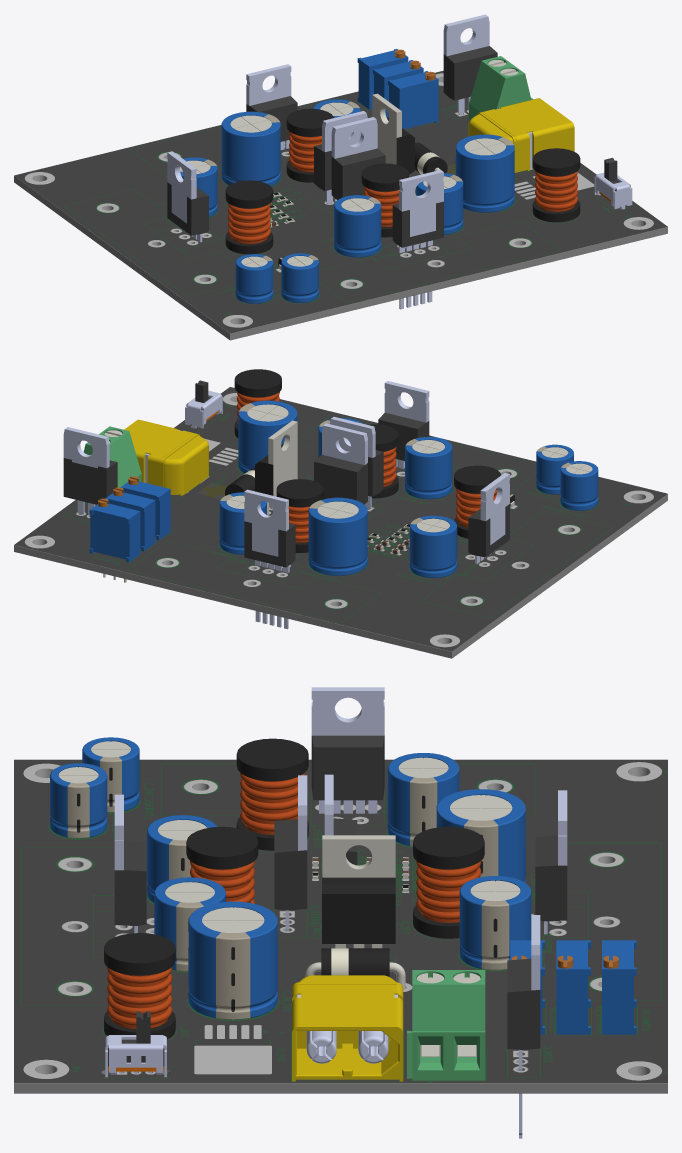
The model's file is robodev-power.glb.
3 views of the same model, one above another, from view 1: azimuth 30°, elevation 25°; view 2: azimuth 150°, elevation 25°; view 3: azimuth 270°, elevation 25° (orthographic). The views are drawn at different scales.
Visible parts, largest first — view 1: =>[0:1:1:22], =>[0:1:1:23], NAUO1, C_IN_5V1, C_OUT_VMOT1, U_VSTEP1, D_MOT1, L_5V1, L_VSERVO1, D_STEP1, =>[0:1:1:20], =>[0:1:1:21] (+18 smaller); view 2: =>[0:1:1:22], =>[0:1:1:23], NAUO1, C_OUT_VMOT1, U_VMOT1, =>[0:1:1:21], D_MOT1, D_SERVO1, =>[0:1:1:20], C_IN_VSERVO1, C_IN_VSTEP1, C_IN_5V1 (+17 smaller); view 3: =>[0:1:1:22], =>[0:1:1:23], NAUO1, C_IN_5V1, =>[0:1:1:20], J_BENCH1, U_VSERVO1, Q_REVPROT1, =>[0:1:1:21], L_5V1, L_VMOT1, C_IN_VMOT1 (+18 smaller).
Part boxes in pixels (x1,y1,x2,y2): =>[0:1:1:22]: (14, 70, 667, 340); =>[0:1:1:23]: (14, 71, 667, 340); NAUO1: (468, 98, 574, 172); C_IN_5V1: (455, 134, 514, 212); C_OUT_VMOT1: (221, 111, 280, 186); U_VSTEP1: (392, 170, 443, 309); D_MOT1: (443, 14, 497, 114); L_5V1: (532, 148, 580, 222); L_VSERVO1: (225, 180, 273, 254); D_STEP1: (331, 117, 385, 199); =>[0:1:1:20]: (25, 73, 653, 327); =>[0:1:1:21]: (27, 72, 632, 315); =>[0:1:1:22]: (14, 387, 667, 658); =>[0:1:1:23]: (14, 387, 667, 658); NAUO1: (124, 419, 208, 495); C_OUT_VMOT1: (308, 497, 367, 575); U_VMOT1: (244, 489, 295, 629); =>[0:1:1:21]: (28, 405, 632, 648); D_MOT1: (63, 427, 117, 517); D_SERVO1: (314, 423, 367, 504); =>[0:1:1:20]: (25, 393, 653, 647); C_IN_VSERVO1: (409, 515, 457, 577); C_IN_VSTEP1: (405, 437, 452, 499); C_IN_5V1: (238, 400, 297, 473); =>[0:1:1:22]: (14, 759, 667, 1093); =>[0:1:1:23]: (14, 760, 667, 1093); NAUO1: (292, 975, 403, 1081); C_IN_5V1: (188, 901, 277, 1019); =>[0:1:1:20]: (23, 762, 661, 1080); J_BENCH1: (407, 970, 485, 1080); U_VSERVO1: (311, 687, 384, 813); Q_REVPROT1: (322, 835, 395, 948); =>[0:1:1:21]: (20, 763, 667, 1082); L_5V1: (104, 933, 175, 1039); L_VMOT1: (413, 826, 484, 938); C_IN_VMOT1: (459, 876, 531, 970).
Size of the model in its own units: 0.1065 by 0.0333 by 0.091.
